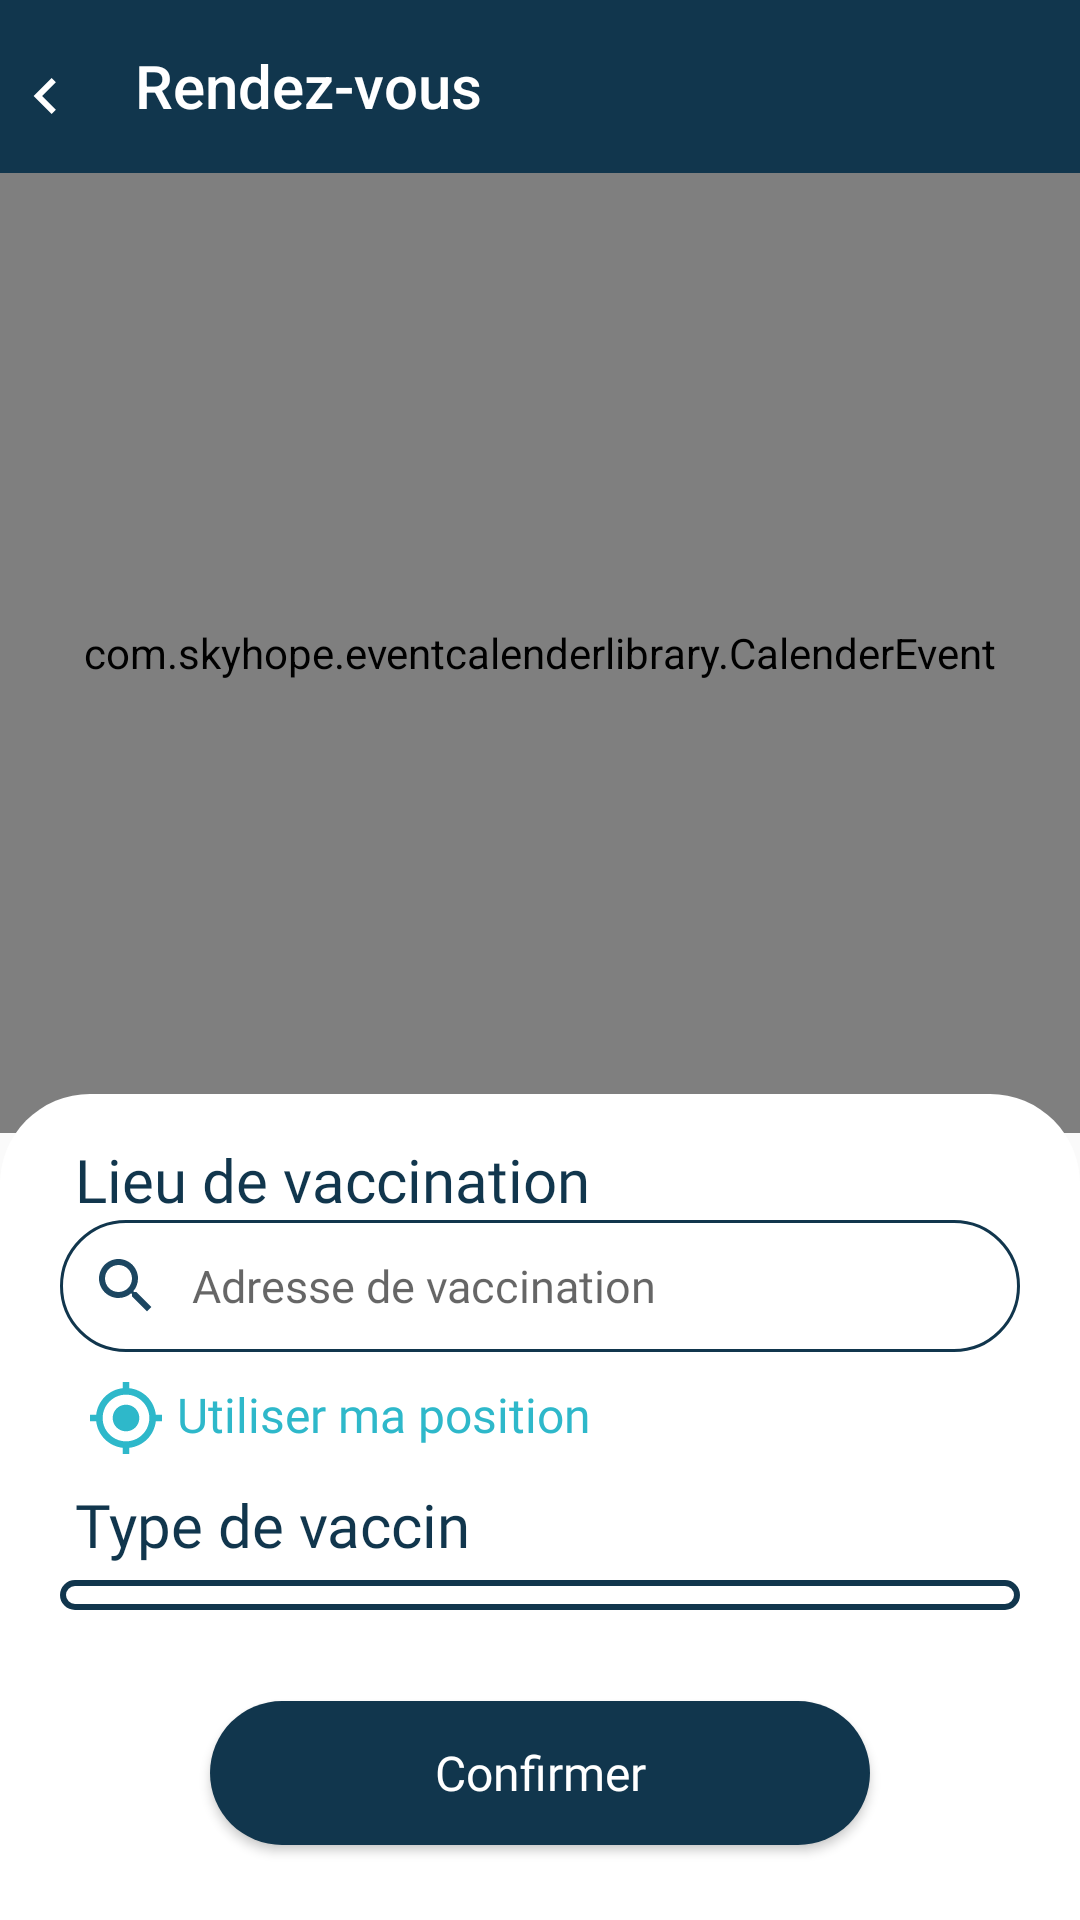

Where to tap for icons on this 1080px x 1920px app screen, as (x=x, y=y):
navigate before: (x=45, y=96)
